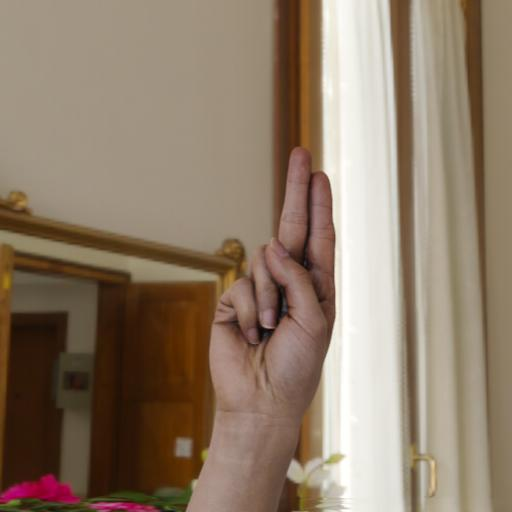U: (175, 137, 353, 438)
